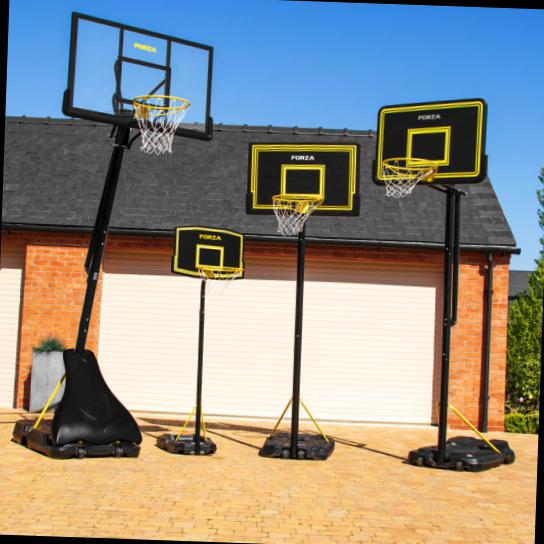basketball-hoop: (125, 90, 192, 158), (379, 154, 440, 199), (270, 192, 325, 236), (193, 263, 244, 300)
